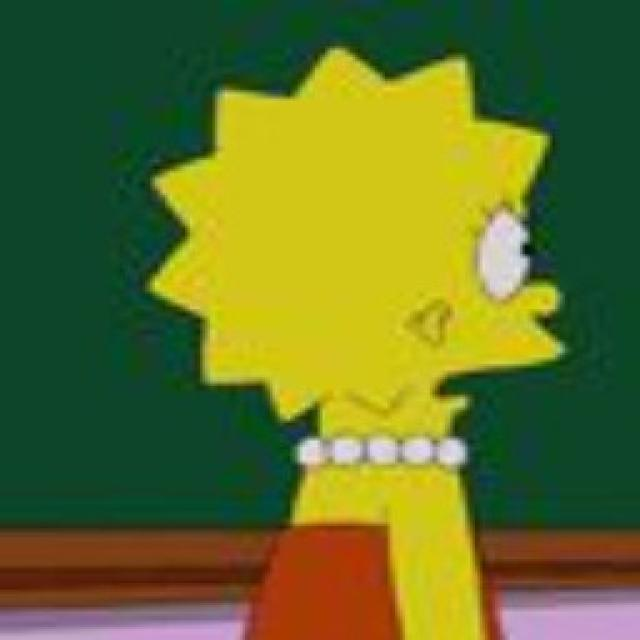Lisa Simpson: (151, 46, 579, 454)
